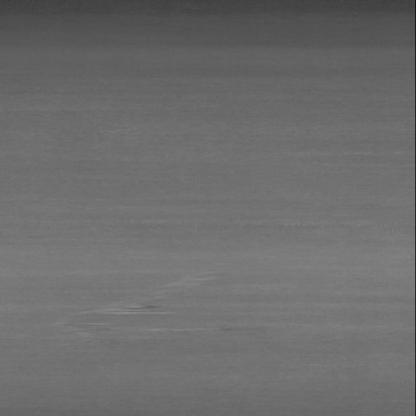silk_spot: (42, 261, 228, 349)
